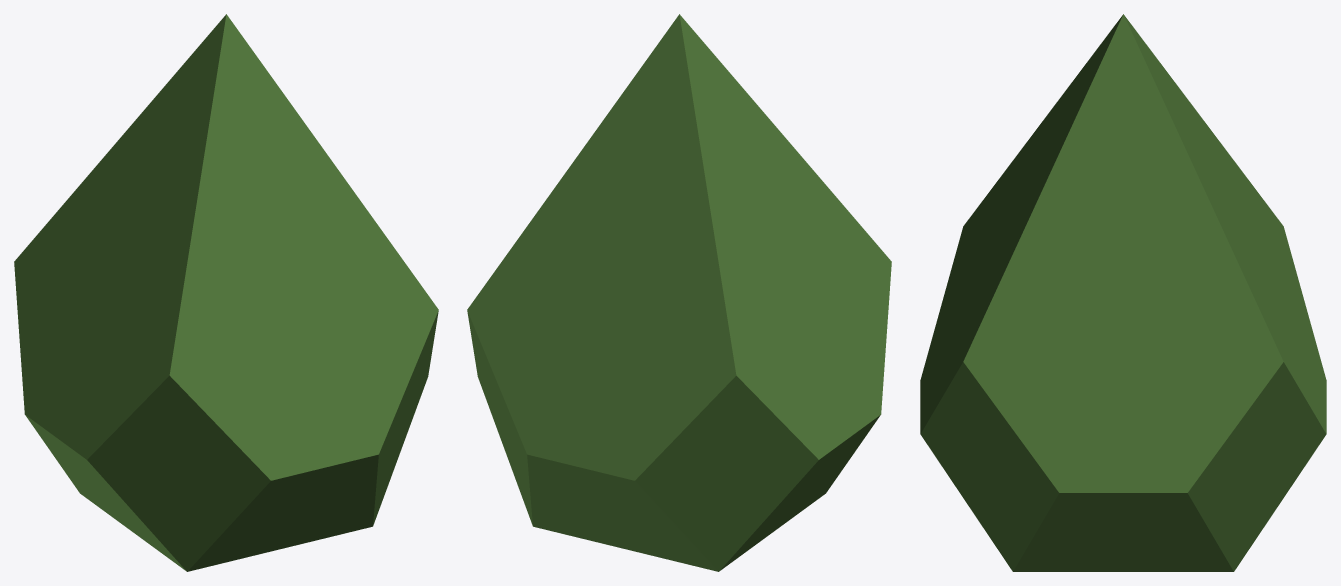
File: grass.glb
The picture shows the model from 3 angles, left to right: view 1: azimuth 30°, elevation 25°; view 2: azimuth 150°, elevation 25°; view 3: azimuth 270°, elevation 25°; orthographic projection. The views are drawn at different scales.
Visible parts, largest first — view 1: Cube; view 2: Cube; view 3: Cube.
Boxes of the visible parts, x1,y1,x2,y2 form: Cube: (14, 14, 438, 571); Cube: (467, 14, 891, 571); Cube: (920, 14, 1326, 571).
Bounding box in the file's own units: 0.9357 × 1.3 × 0.9357.
